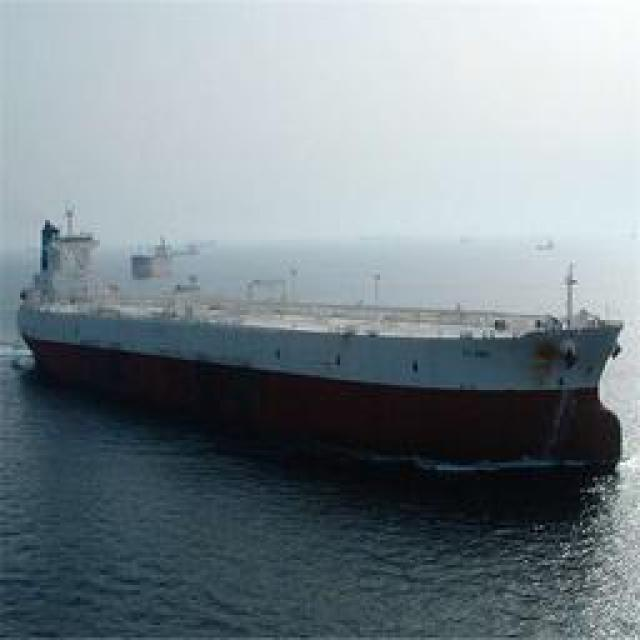Ship: (24, 213, 627, 478)
